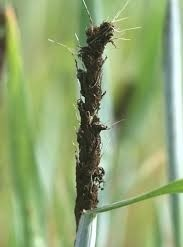Wheat Loose Smut: (66, 14, 123, 212)
